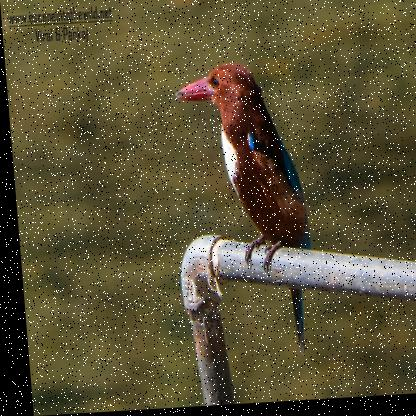Burung: (170, 60, 312, 364)
